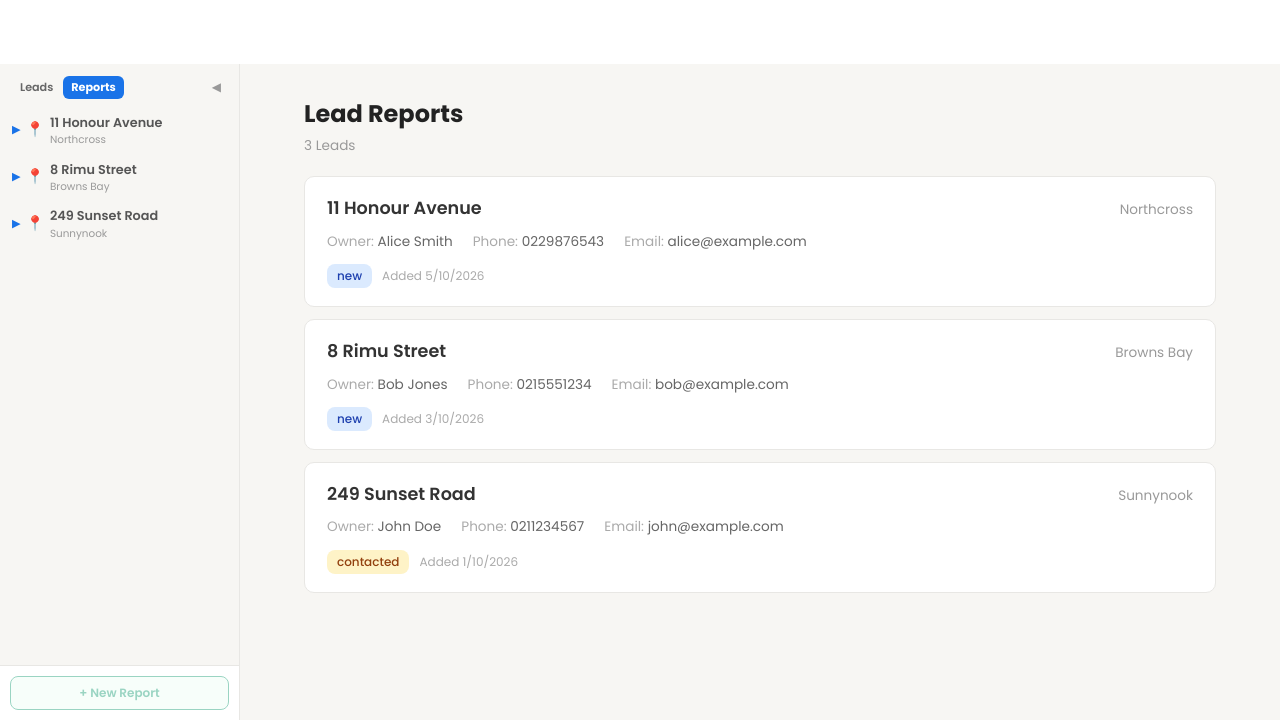
LeadReportsView › shows the empty state for a lead with no reports
Click the element with test id "home-lead-item" that starts with "11 Honour Avenue" at (760, 242), box [304,176,1216,307]
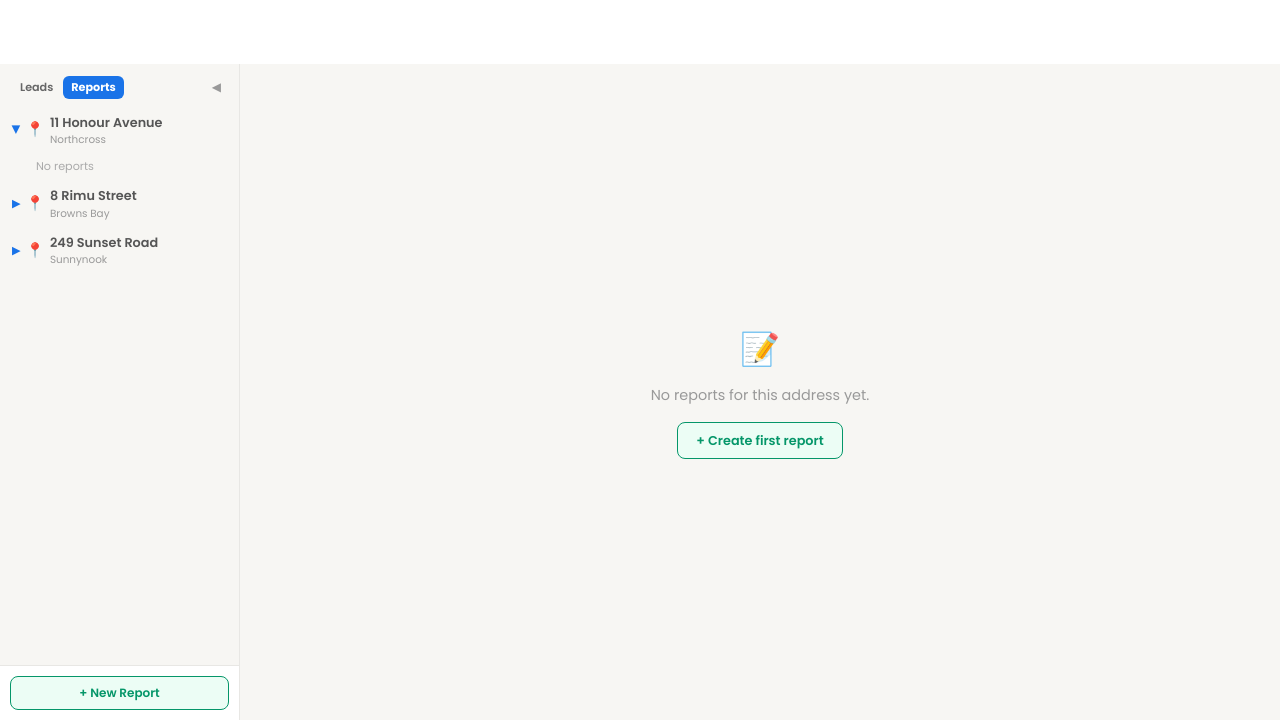
Result: the text "No reports for this address yet." is shown at [651,385,869,406]
Result: the button "+ Create first report" is shown at [677,422,843,459]
